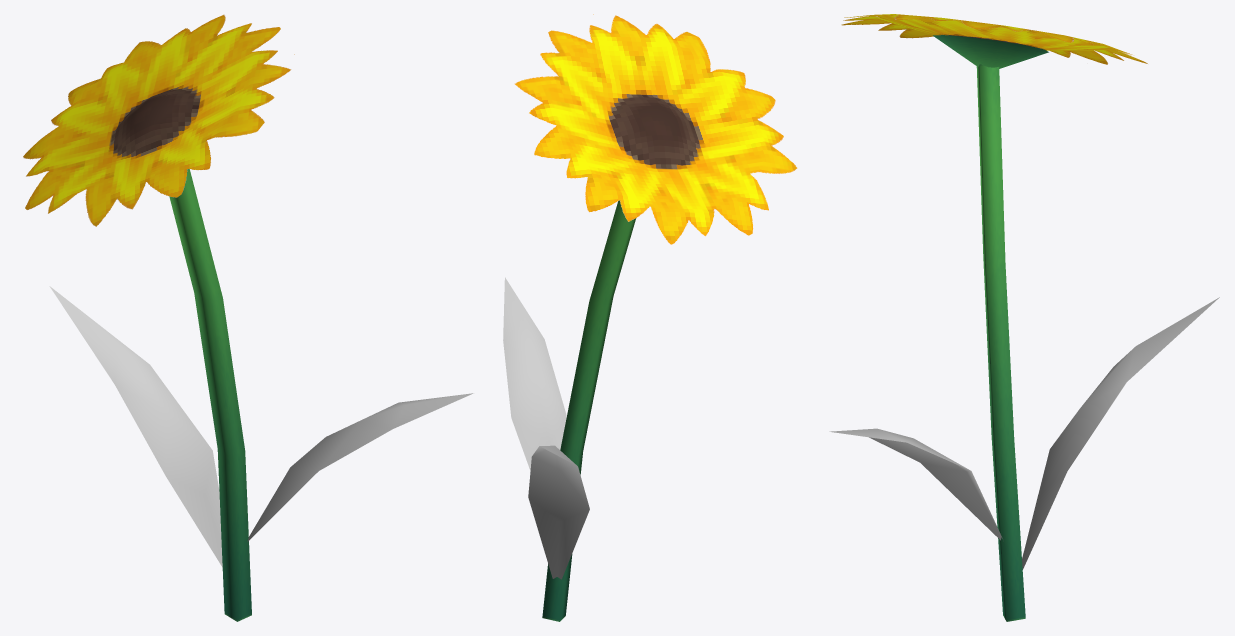
The model's file is Flower_Sunflower_2.fbx.
3 views of the same model, side by side, from view 1: azimuth 30°, elevation 25°; view 2: azimuth 150°, elevation 25°; view 3: azimuth 270°, elevation 25° (orthographic). The views are drawn at different scales.
Parts seen in each view (by area): view 1: Cylinder.074, Cube.080, object6.055, object6.057; view 2: Cylinder.074, Cube.080, object6.057, object6.055; view 3: Cube.080, object6.055, Cylinder.074, object6.057, Cylinder.080.
Part boxes in pixels (bbox=[...]): Cylinder.074: bbox=[23, 14, 294, 226]; Cube.080: bbox=[169, 169, 251, 621]; object6.055: bbox=[49, 286, 222, 567]; object6.057: bbox=[247, 393, 473, 541]; Cylinder.074: bbox=[514, 14, 797, 244]; Cube.080: bbox=[542, 200, 636, 621]; object6.057: bbox=[503, 277, 566, 470]; object6.055: bbox=[528, 445, 589, 579]; Cube.080: bbox=[976, 64, 1025, 621]; object6.055: bbox=[1022, 297, 1219, 569]; Cylinder.074: bbox=[841, 14, 1147, 64]; object6.057: bbox=[829, 428, 1002, 540]; Cylinder.080: bbox=[933, 35, 1048, 68].
Size of the model in its own units: 46.16 by 73.05 by 43.08.
